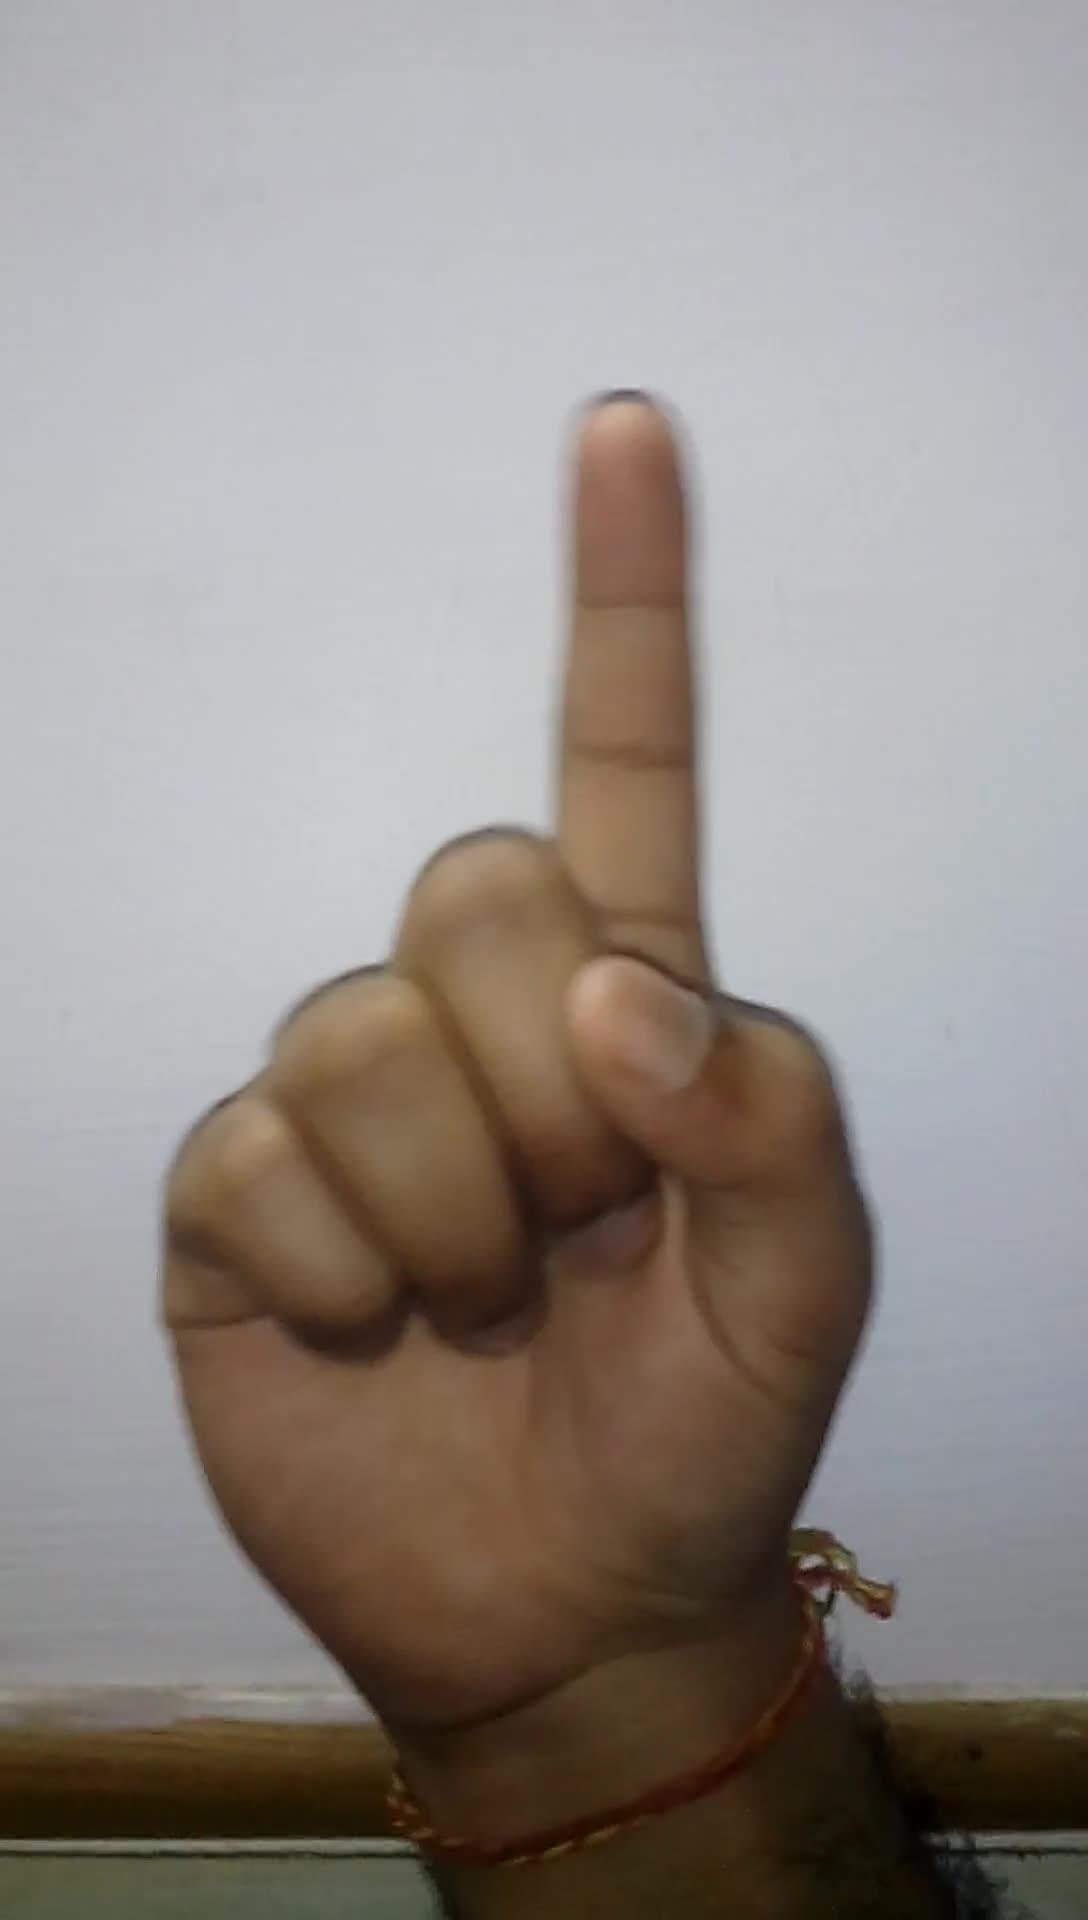I: (117, 327, 916, 1716)
